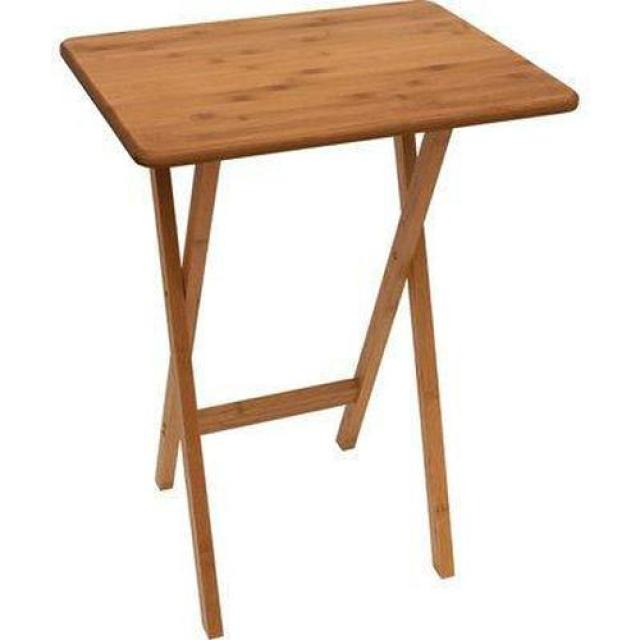table: (60, 0, 582, 640)
